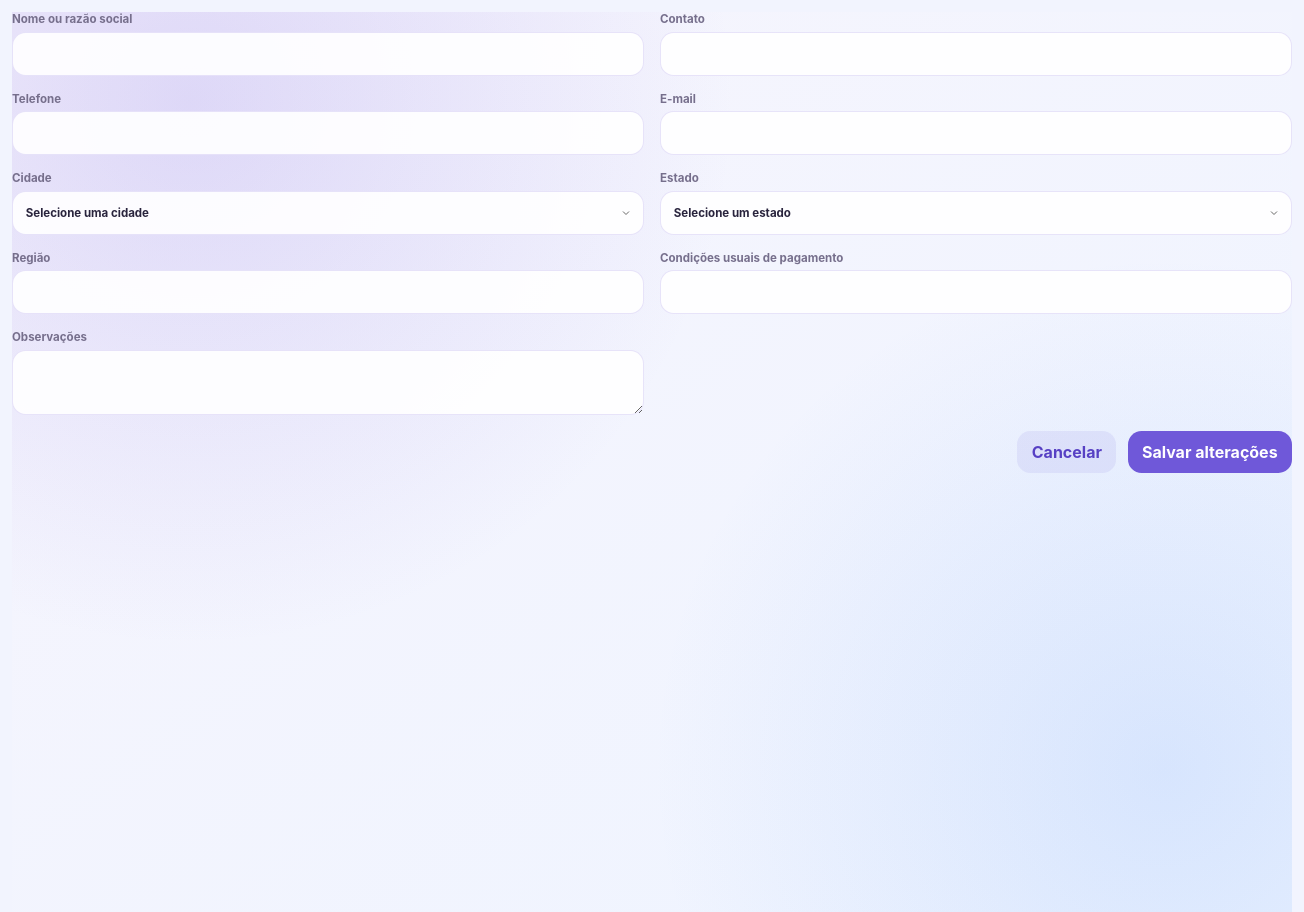
Test: validates name and at least one contact method
Click the button "Salvar alterações" at (1210,452), box x1=1128 y1=431 x2=1292 y2=473
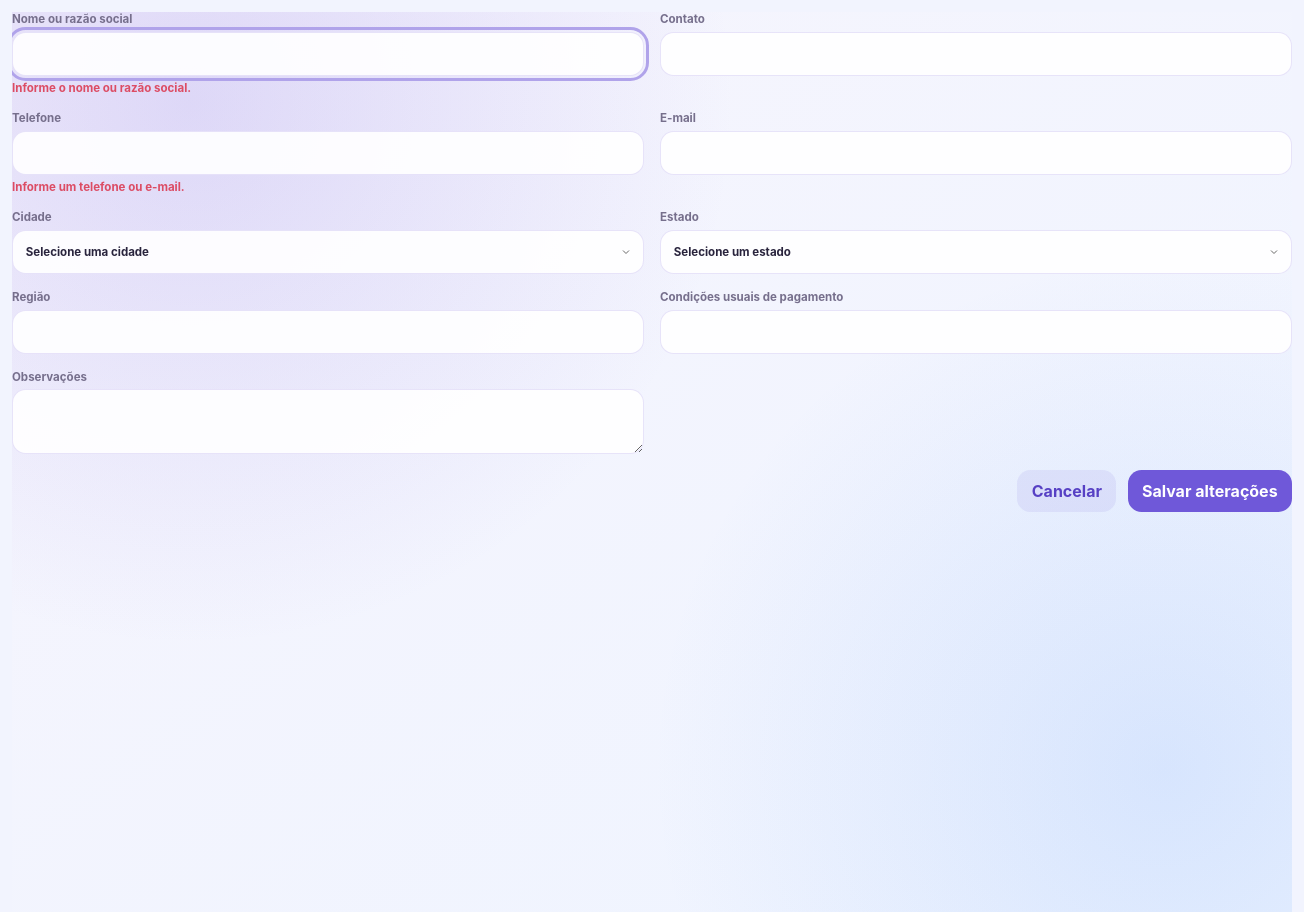
Result: the text "Informe o nome ou razão social." is shown at x1=12 y1=81 x2=191 y2=95
Result: the text "Informe um telefone ou e-mail." is shown at x1=12 y1=180 x2=185 y2=194
